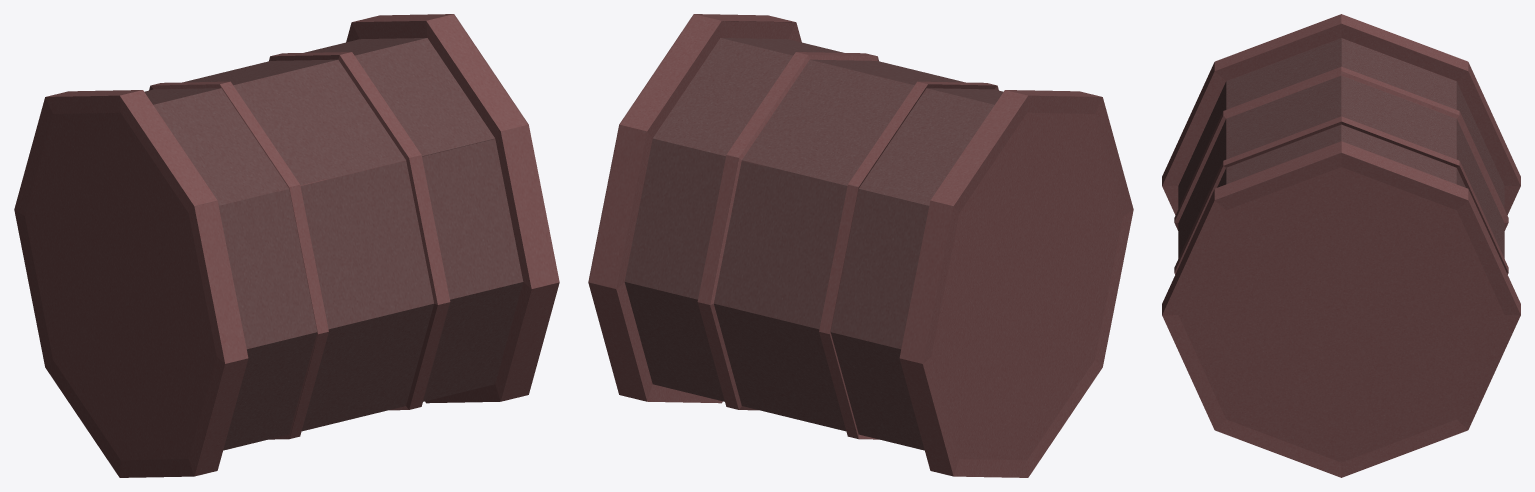
Rendered from barrel3.fbx.
The picture shows the model from 3 angles, left to right: view 1: azimuth 30°, elevation 25°; view 2: azimuth 150°, elevation 25°; view 3: azimuth 270°, elevation 25°; orthographic projection. The views are drawn at different scales.
Parts seen in each view (by area): view 1: Barrel.002; view 2: Barrel.002; view 3: Barrel.002.
Boxes of the visible parts, bbox=[...] form: Barrel.002: bbox=[14, 14, 559, 477]; Barrel.002: bbox=[588, 14, 1133, 477]; Barrel.002: bbox=[1162, 14, 1520, 477].
Size of the model in its own units: 654 by 714 by 714.
